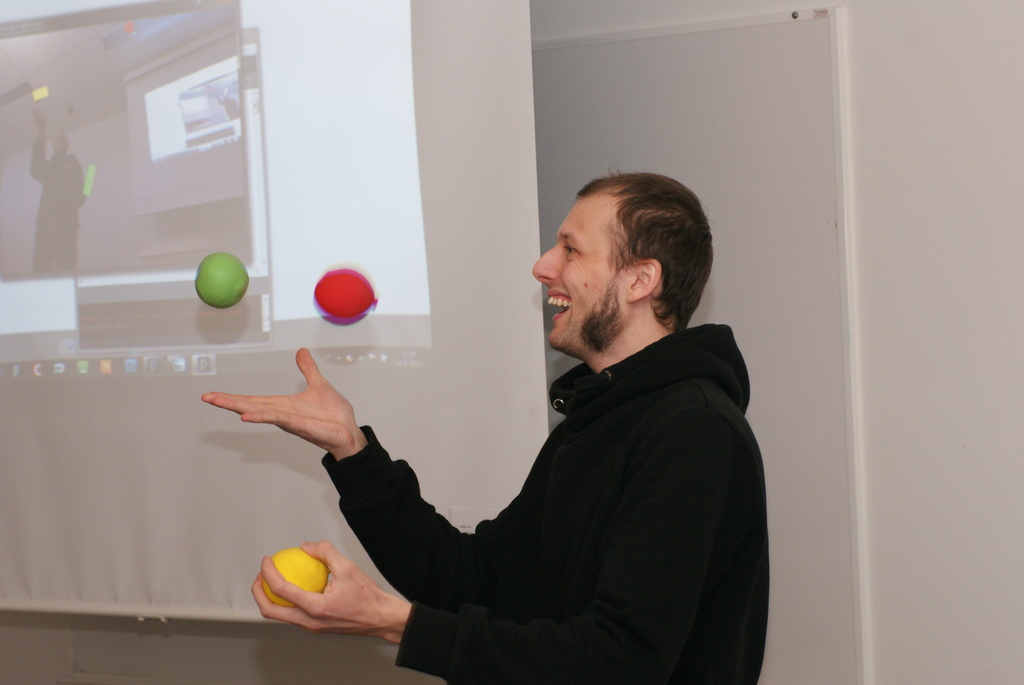Ball: (261, 547, 332, 611), (311, 268, 376, 326), (195, 248, 252, 306)
